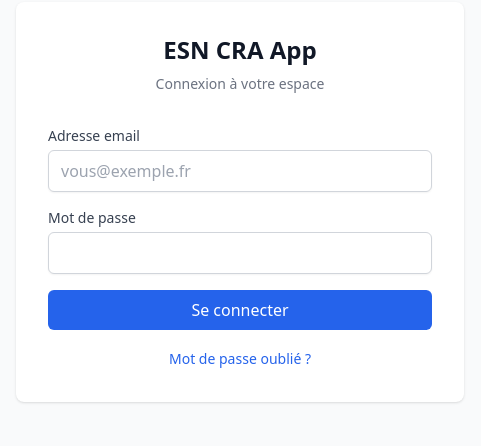
Test: LoginPage › displays error message on wrong credentials
Type "a@b.com" into the field labelled "Adresse email".
click(240, 171); type("a@b.com")  # box [48, 150, 432, 192]
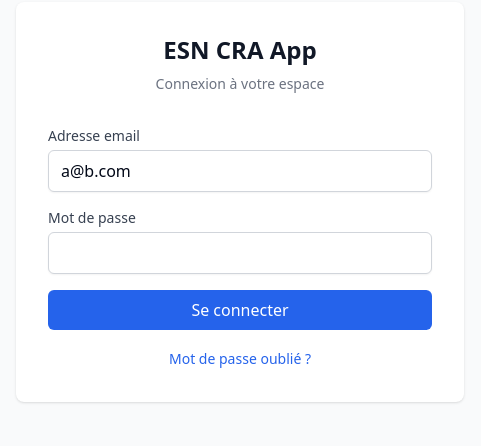
Type "wrong" into the password field labelled "Mot de passe".
click(240, 253); type("wrong")  # box [48, 232, 432, 274]
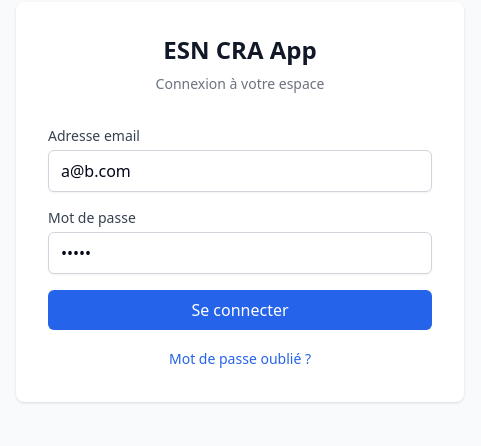
Submit the form "Adresse email Mot de passe Se connecter", box [48, 126, 432, 330]
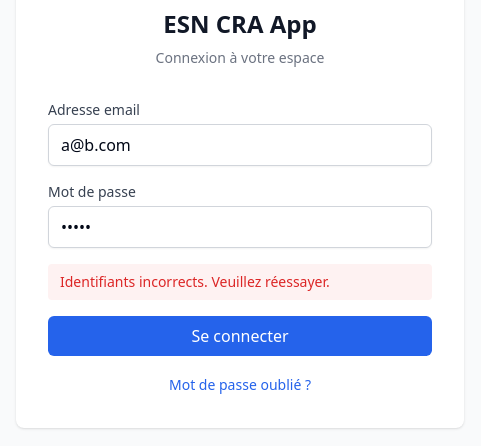
Check: the message shows "Identifiants incorrects", box [60, 272, 330, 291]
